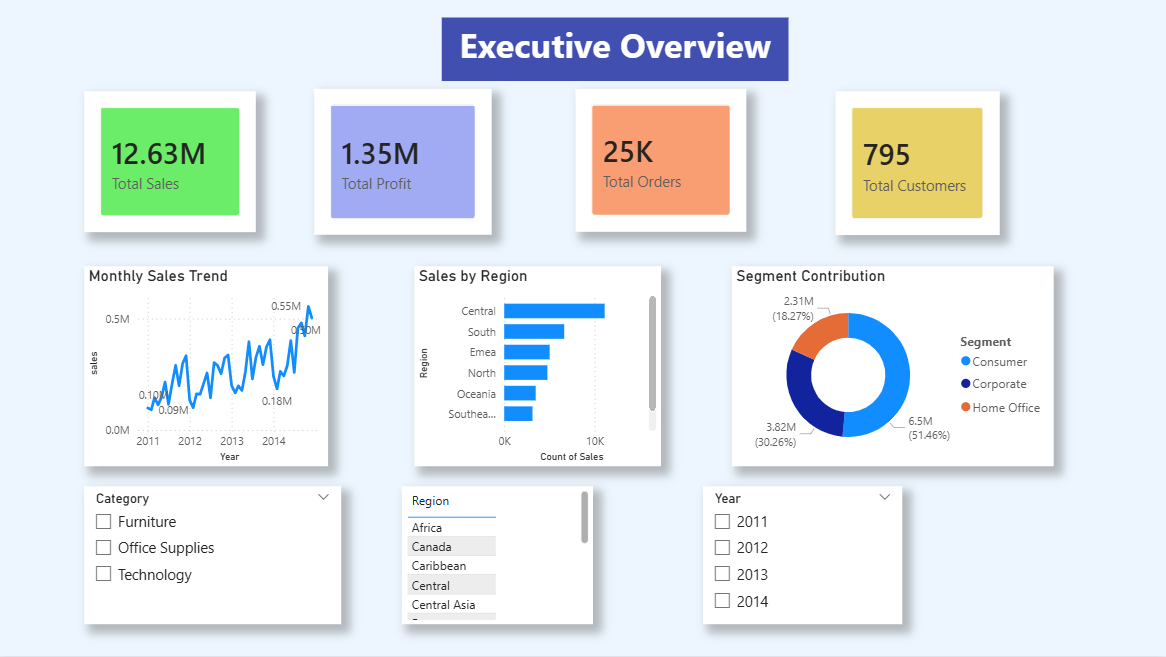

Layout of this report page (visuals, bound fields, positions):
{"tool":"powerbi","page":{"name":"Executive Overview ","canvas":[1280,720],"ordinal":0},"visuals":[{"type":"cardVisual","fields":{"Data":["Sum(cleaned_superstore.Sales)"]},"box":[94.2,100.3,188.3,154.1],"z":0},{"type":"cardVisual","fields":{"Data":["Sum(cleaned_superstore.Profit)"]},"box":[346.1,97.8,194.4,160.2],"z":1000},{"type":"cardVisual","fields":{"Data":["cleaned_superstore.Total Orders"]},"box":[632.2,97.8,187.1,156.5],"z":2000},{"type":"cardVisual","fields":{"Data":["cleaned_superstore.Total Customers"]},"box":[918.3,100.3,179.8,157.7],"z":3000},{"type":"lineChart","title":"Monthly Sales Trend","fields":{"Y":["Sum(cleaned_superstore.Sales)"],"Category":["cleaned_superstore.Order Date.Variation.Date Hierarchy.Year","cleaned_superstore.Order Date.Variation.Date Hierarchy.Month"]},"box":[94.7,292.3,267.6,219.6],"z":4000},{"type":"clusteredBarChart","title":"Sales by Region","fields":{"Y":["CountNonNull(cleaned_superstore.Sales)"],"Category":["cleaned_superstore.Region"]},"box":[455.6,292.3,270.3,219.6],"z":5000},{"type":"donutChart","title":"Segment Contribution","fields":{"Y":["Sum(cleaned_superstore.Sales)"],"Category":["cleaned_superstore.Segment"]},"box":[804.1,292.3,352.7,219.6],"z":6000},{"type":"textbox","box":[486.7,19.6,380.3,69.7],"z":7000},{"type":"slicer","fields":{"Values":["cleaned_superstore.Category"]},"box":[94.7,532.4,281.3,150.9],"z":8000},{"type":"tableEx","fields":{"Values":["cleaned_superstore.Region"]},"box":[441.9,532.4,209.9,150.9],"z":9000},{"type":"slicer","fields":{"Values":["cleaned_superstore.Order Date.Variation.Date Hierarchy.Year"]},"box":[772.6,532.4,218.2,150.9],"z":10000}]}

Visuals, with their boxes in screenshot pixels (x1, y1, x2, y2), scaled from the page's 1280x720 canvas onto the 1166x657 screenshot:
cardVisual - Sum(cleaned_superstore.Sales): {"left": 86, "top": 92, "right": 257, "bottom": 232}
cardVisual - Sum(cleaned_superstore.Profit): {"left": 315, "top": 89, "right": 492, "bottom": 235}
cardVisual - cleaned_superstore.Total Orders: {"left": 576, "top": 89, "right": 746, "bottom": 232}
cardVisual - cleaned_superstore.Total Customers: {"left": 837, "top": 92, "right": 1000, "bottom": 235}
"Monthly Sales Trend" lineChart: {"left": 86, "top": 267, "right": 330, "bottom": 467}
"Sales by Region" clusteredBarChart: {"left": 415, "top": 267, "right": 661, "bottom": 467}
"Segment Contribution" donutChart: {"left": 732, "top": 267, "right": 1054, "bottom": 467}
textbox: {"left": 443, "top": 18, "right": 790, "bottom": 81}
slicer - cleaned_superstore.Category: {"left": 86, "top": 486, "right": 343, "bottom": 624}
tableEx - cleaned_superstore.Region: {"left": 403, "top": 486, "right": 594, "bottom": 624}
slicer - cleaned_superstore.Order Date.Variation.Date Hierarchy.Year: {"left": 704, "top": 486, "right": 903, "bottom": 624}
